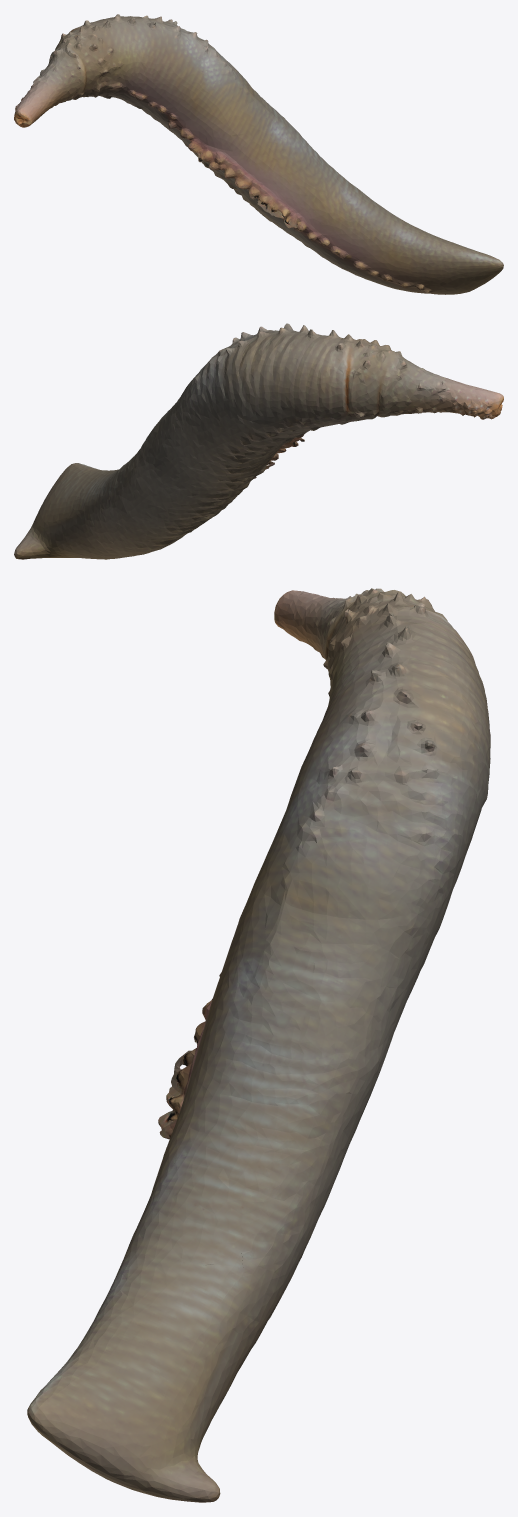
3 renders of one model, top to bottom at view 1: azimuth 30°, elevation 25°; view 2: azimuth 150°, elevation 25°; view 3: azimuth 270°, elevation 25°, orthographic. The views are drawn at different scales.
Parts seen in each view (by area): view 1: world; view 2: world; view 3: world.
Boxes of the visible parts, x1,y1,x2,y2 form: world: (14, 14, 503, 294); world: (14, 323, 503, 559); world: (27, 588, 490, 1502).
Size of the model in its own units: 1 by 0.6653 by 0.4722.
1 material, 1 textured.
